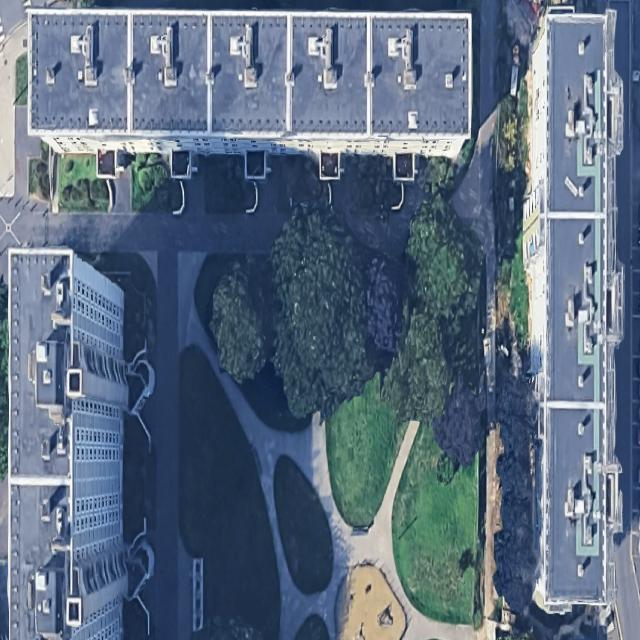immeuble: (26, 9, 472, 159), (522, 7, 625, 606), (7, 248, 128, 639)
